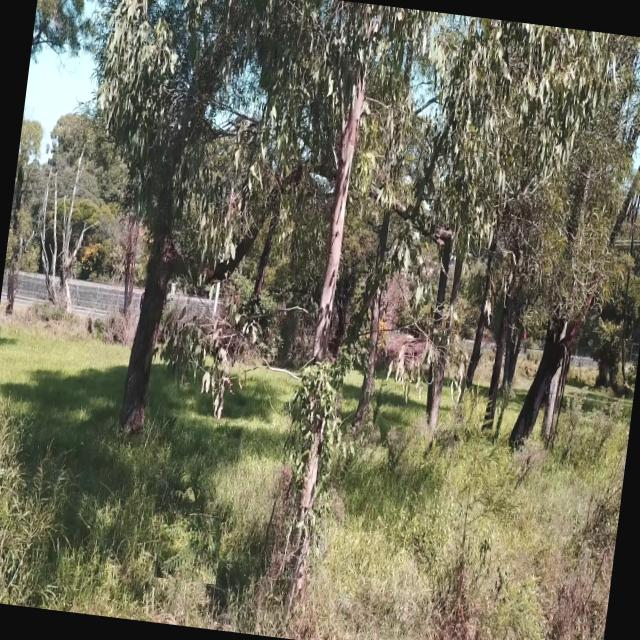Mysore-Thorn-Weed: (154, 511, 224, 584)
